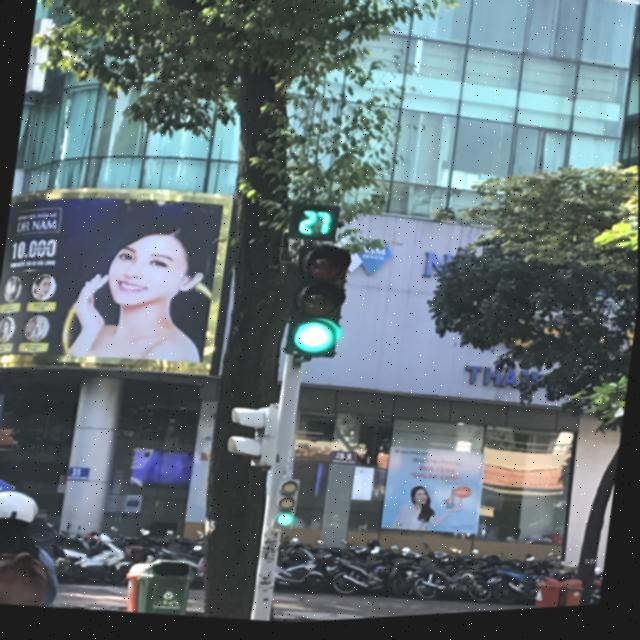Green: (281, 237, 364, 369), (268, 472, 309, 535)
